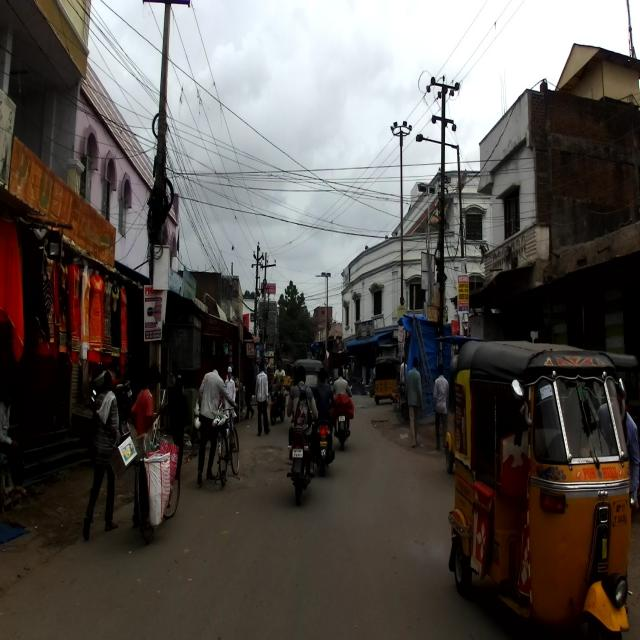autorickshaw: (448, 338, 632, 639)
motorcycle_Hero: (286, 394, 318, 506)
scooter: (313, 409, 334, 478)
